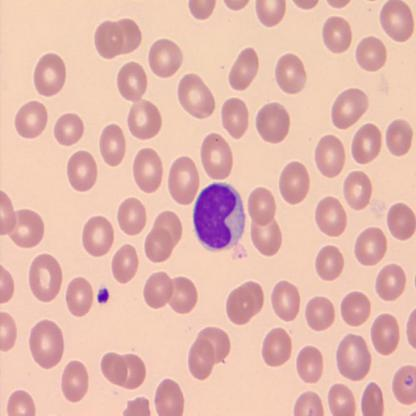Lymphocyte: (193, 180, 247, 260)
